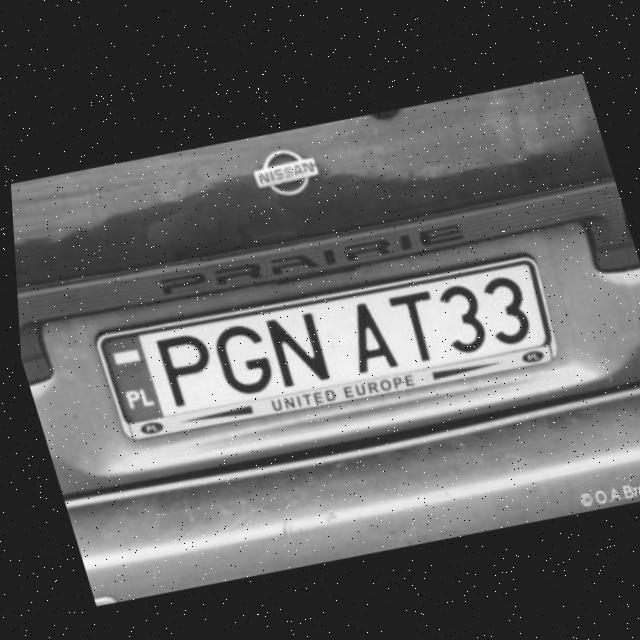license-plates: (97, 257, 557, 440)
